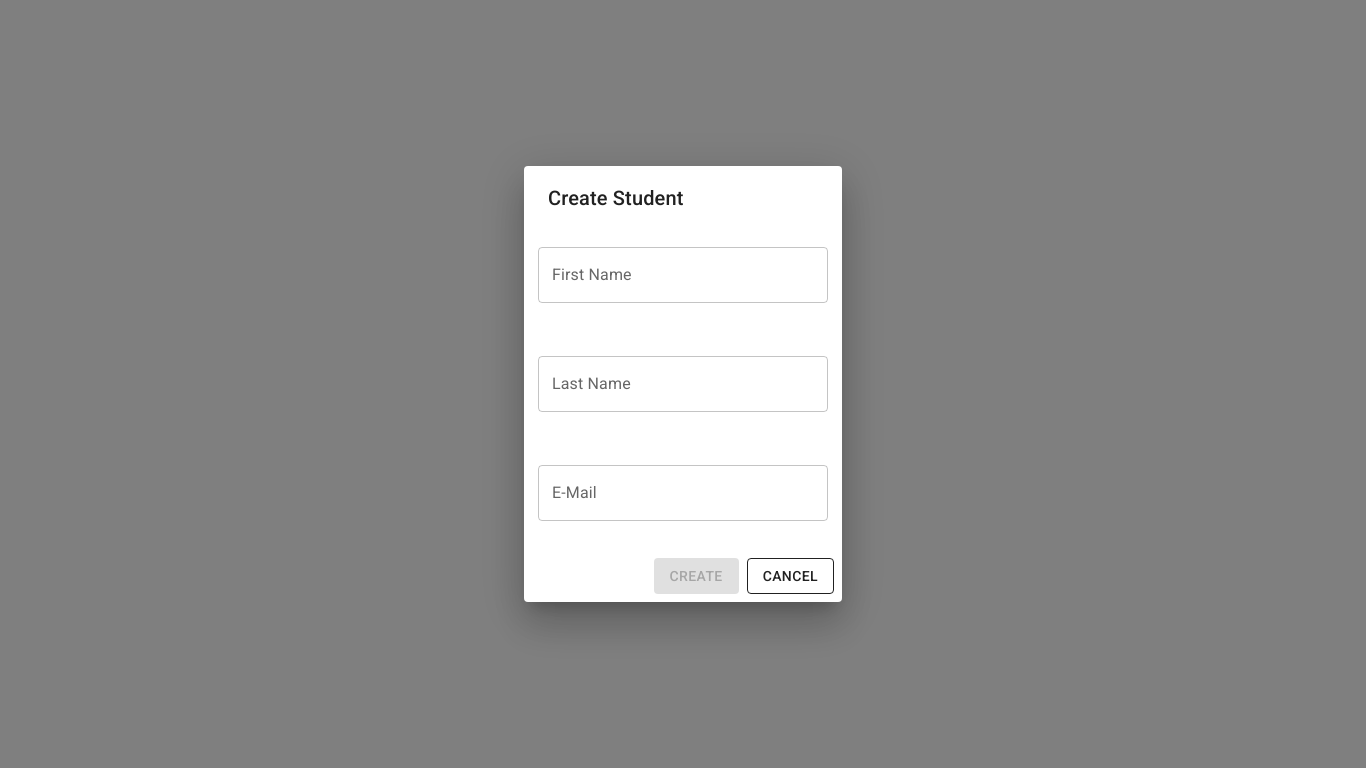
Test: CreateStudentModal › Form Validation › validates last name field
This screenshot has width=1366, height=768.
Type "123" into the field labelled "Last Name". click: [683, 384]
box: [538, 356, 828, 412]
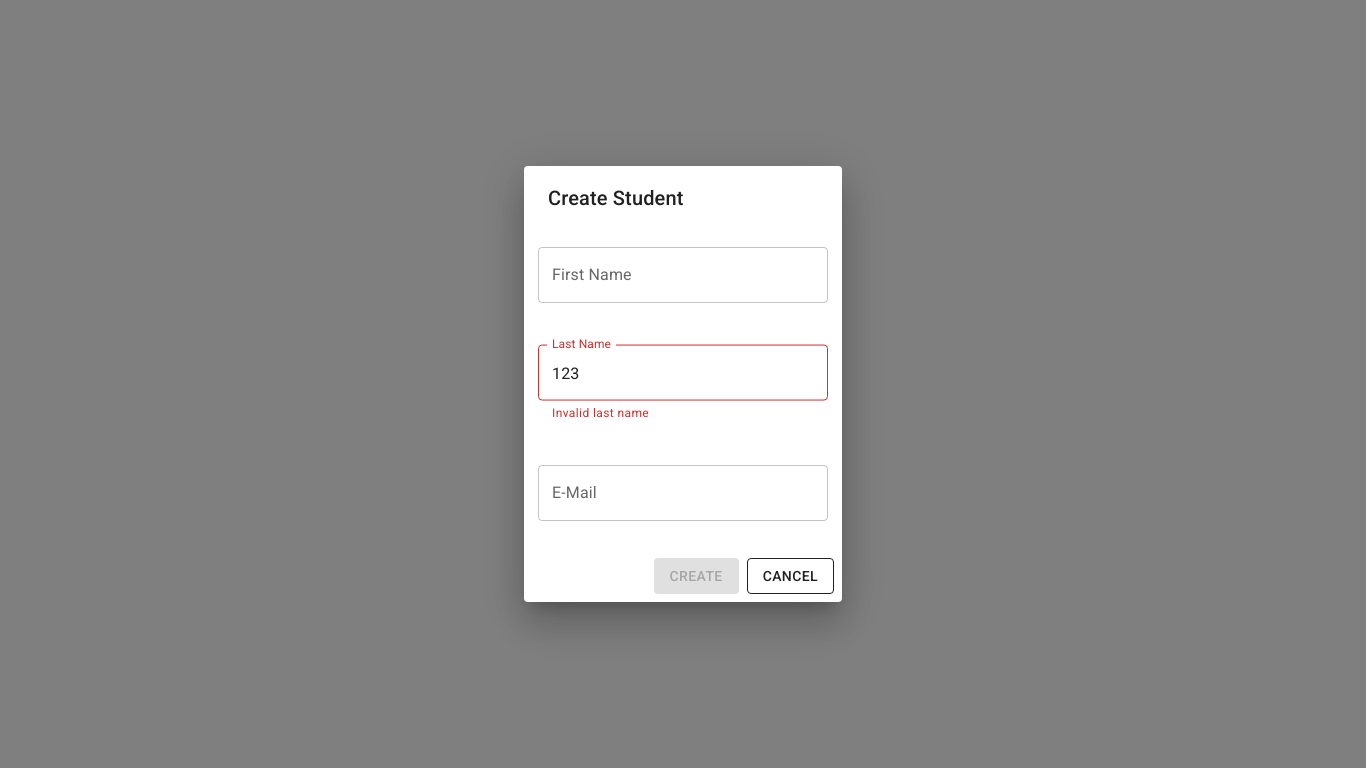
Check: the text "Invalid last name" is shown, box [552, 406, 649, 420]
Replace the text in the field labelled "Last Name" with "Solo". click: [683, 372]
box: [538, 344, 828, 400]
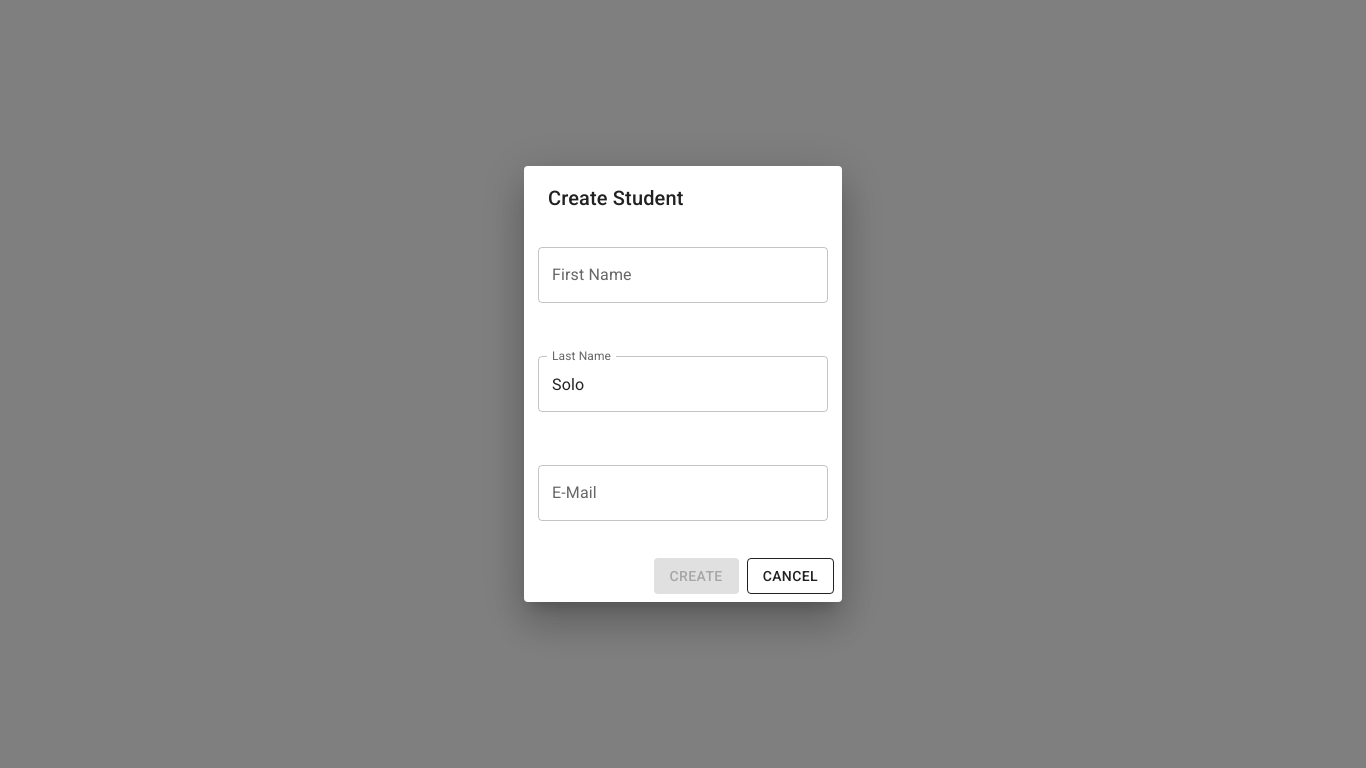
Check: the text "Invalid last name" is gone
